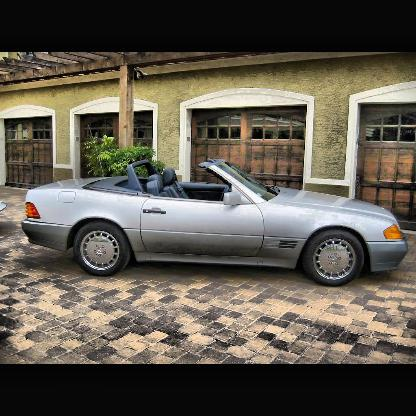Mercedes-Benz 300-Class Convertible 1993: (21, 157, 409, 290)
